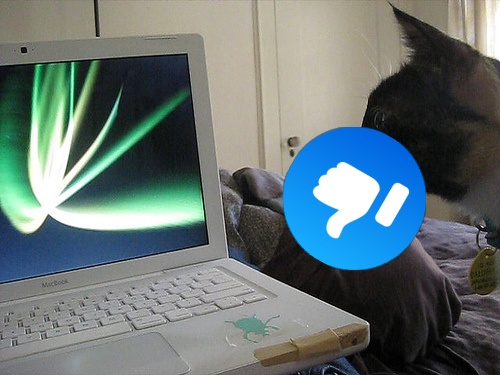like: (283, 127, 426, 270)
